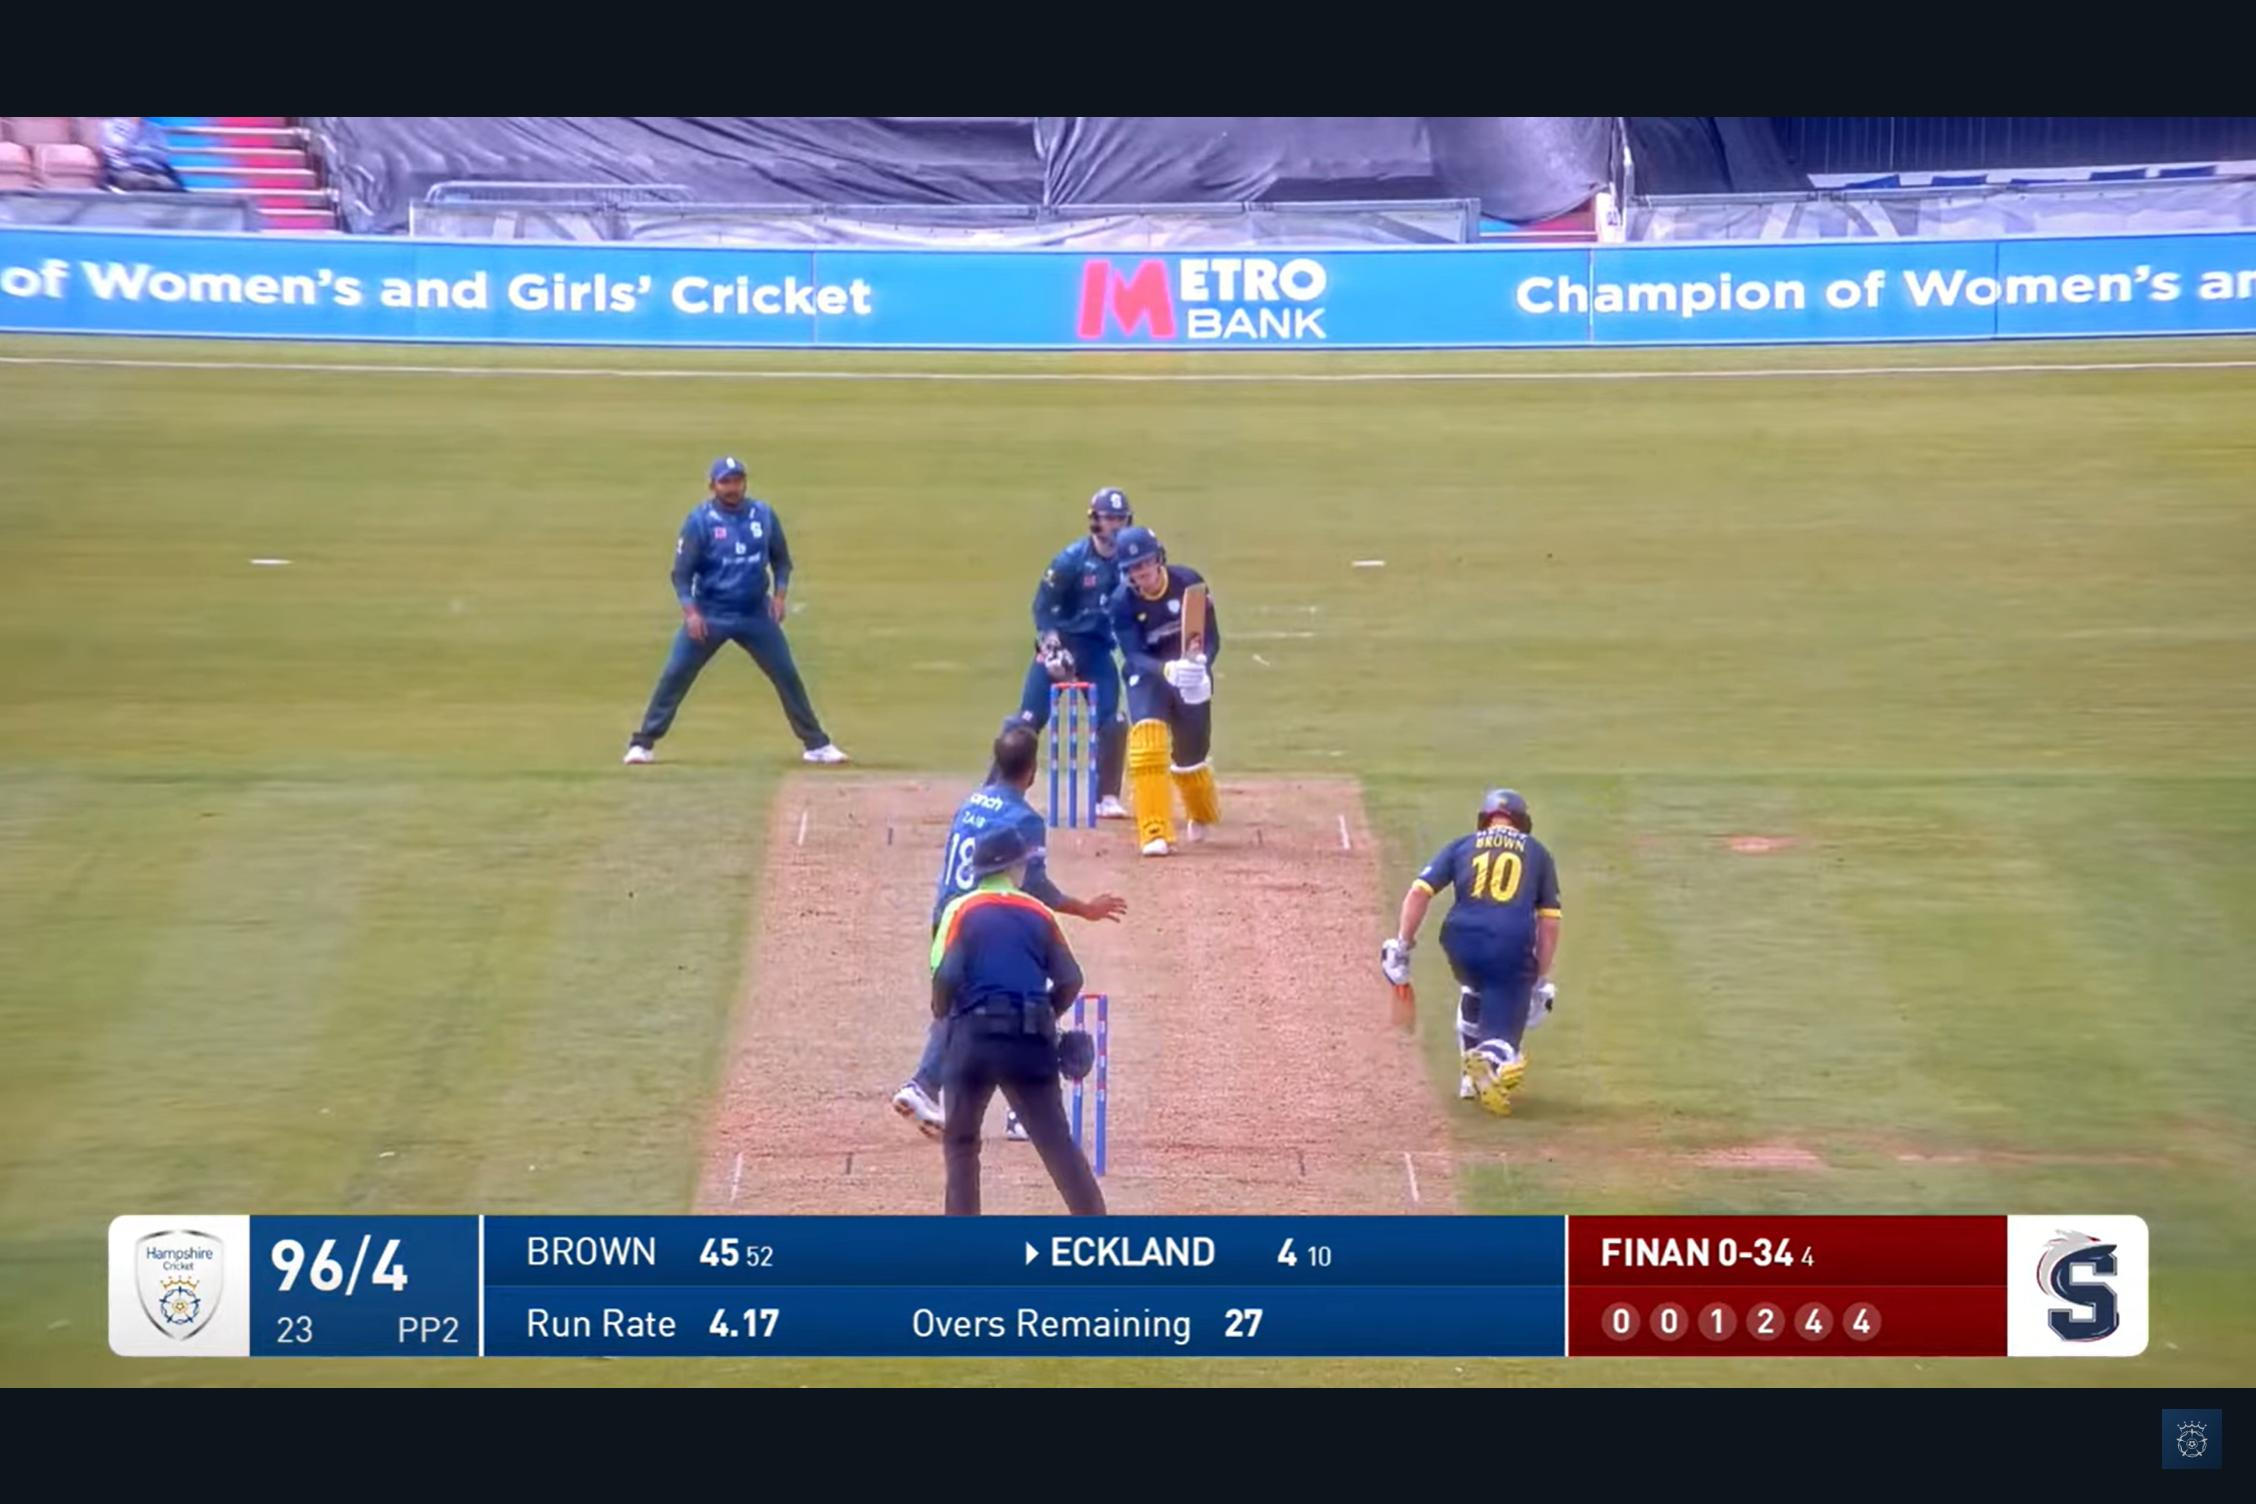batsman: (1091, 529, 1242, 869)
non striker: (1370, 769, 1606, 1136)
umpire: (906, 836, 1145, 1214)
